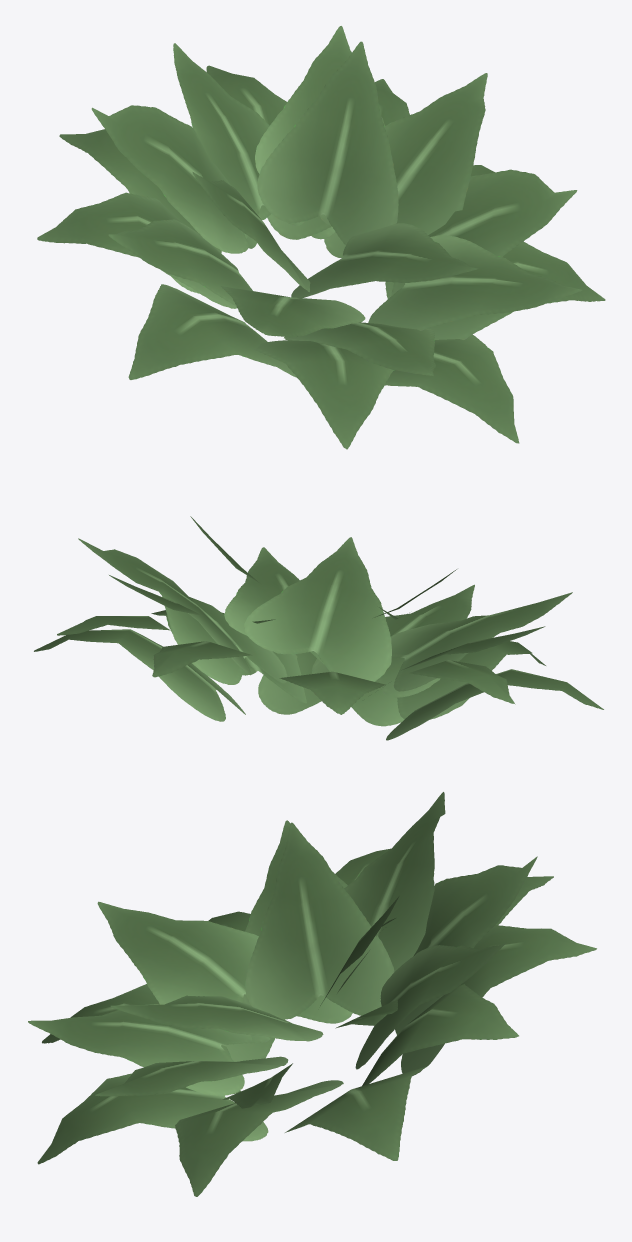
Rendered from plant.glb.
3 renders of one model, top to bottom at view 1: azimuth 30°, elevation 25°; view 2: azimuth 150°, elevation 25°; view 3: azimuth 270°, elevation 25°, orthographic. The views are drawn at different scales.
Parts seen in each view (by area): view 1: Plant_1; view 2: Plant_1; view 3: Plant_1.
Part boxes in pixels (x1,y1,x2,y2): Plant_1: [37, 26, 605, 449]; Plant_1: [34, 516, 603, 740]; Plant_1: [28, 792, 596, 1196].
Size of the model in its own units: 1.24 by 0.6862 by 1.2.
Materials: 1 (1 with a texture image).
